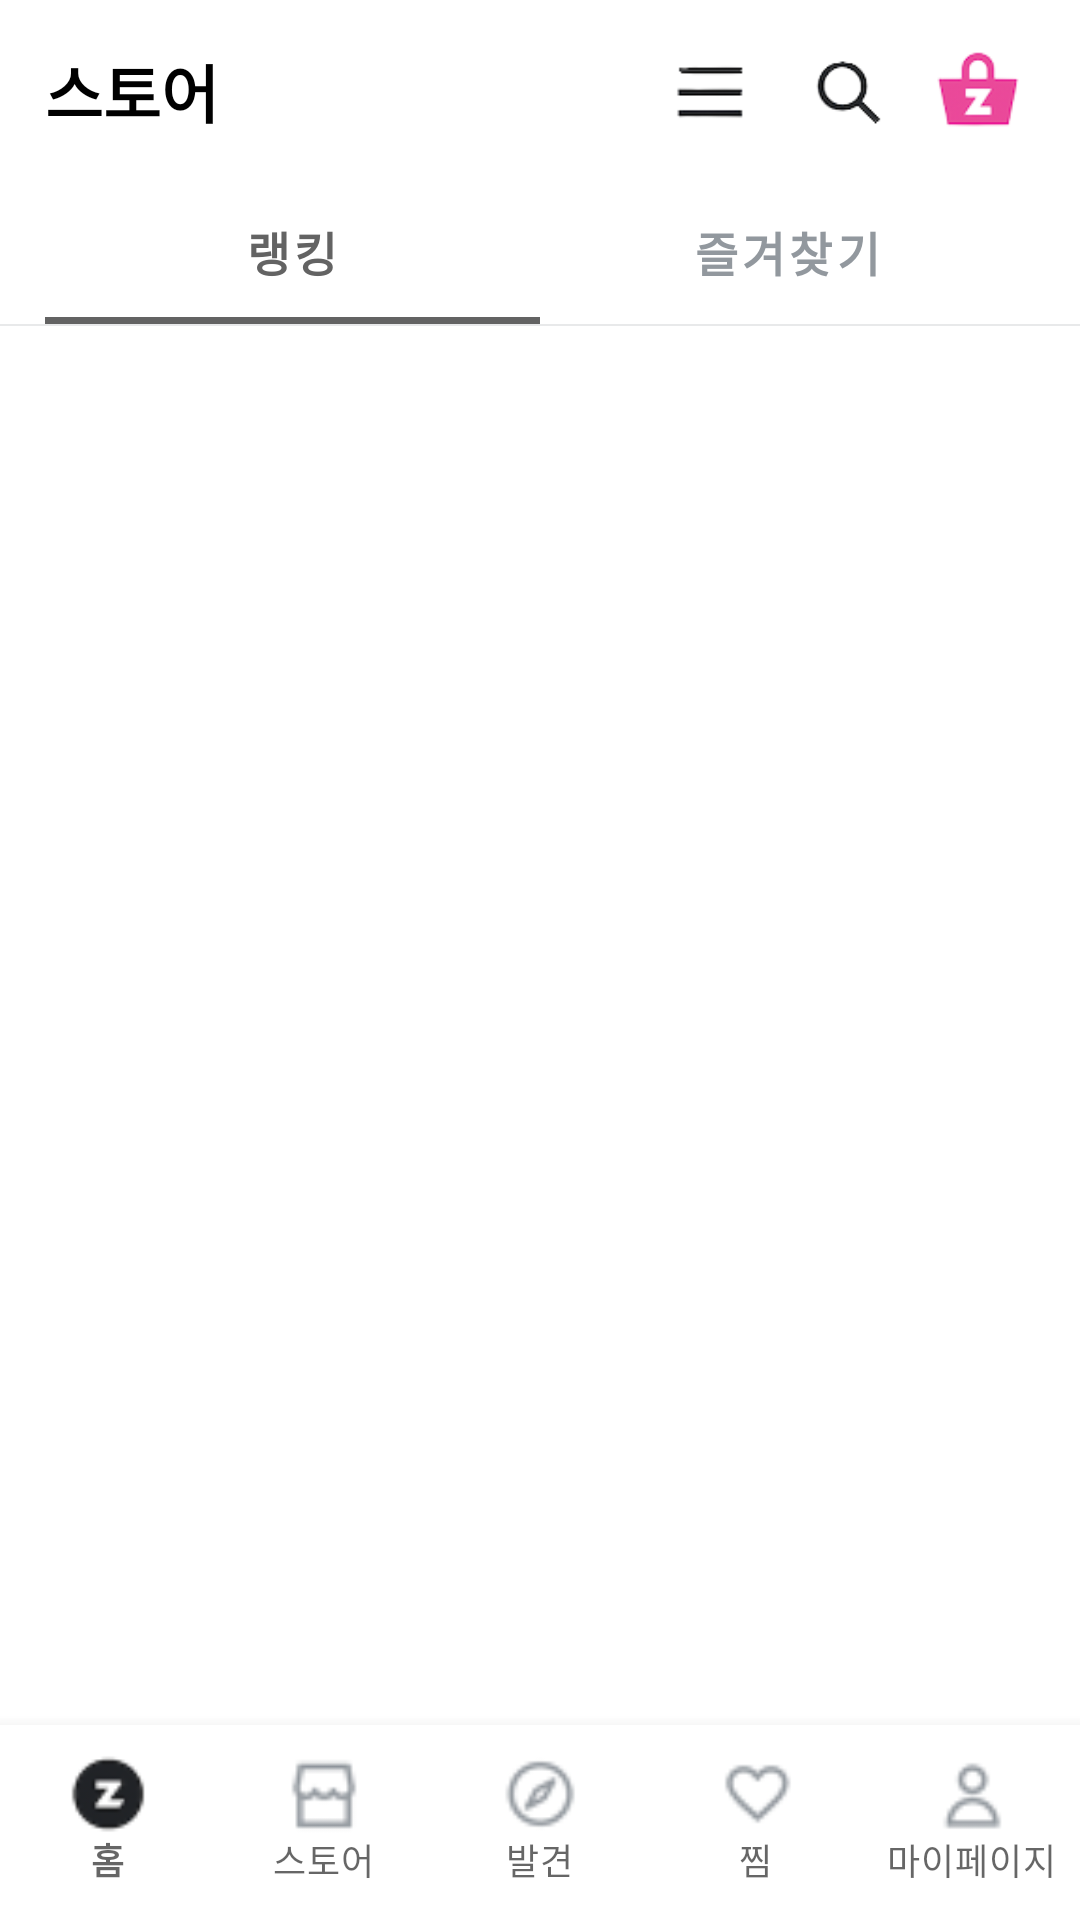

Where to tap for icons on this 1080px x 1920px app screen, as point (x, y):
top more: point (710, 92)
top search: point (848, 92)
